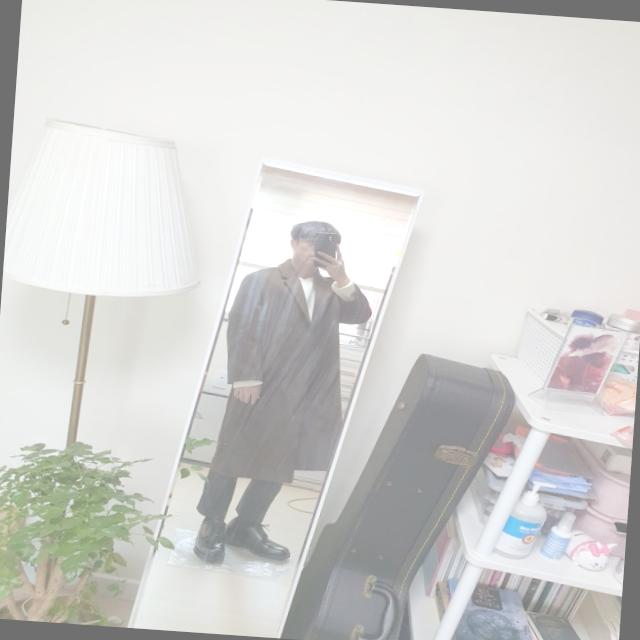coat: (208, 255, 372, 491)
slacks: (195, 470, 284, 526)
